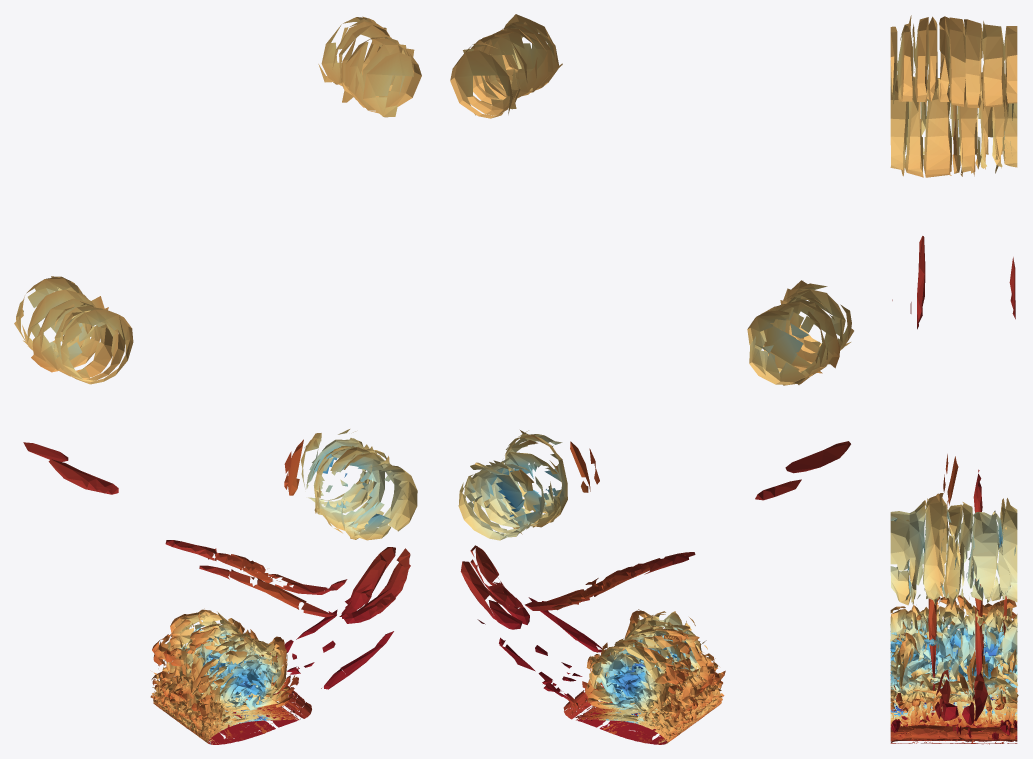
Rendered from flowfield_5_Density.glb.
3 views of the same model, side by side, from view 1: azimuth 30°, elevation 25°; view 2: azimuth 150°, elevation 25°; view 3: azimuth 270°, elevation 25° (orthographic). The views are drawn at different scales.
Parts seen in each view (by area): view 1: Renderer Node; view 2: Renderer Node; view 3: Renderer Node.
Boxes of the visible parts, box(x1,y1,x2,y2) form: Renderer Node: box(14, 16, 421, 744); Renderer Node: box(450, 14, 853, 744); Renderer Node: box(890, 15, 1018, 744).
Bounding box in the file's own units: 4.11 × 6.86 × 1.02.
Materials: 1 (1 with a texture image).
